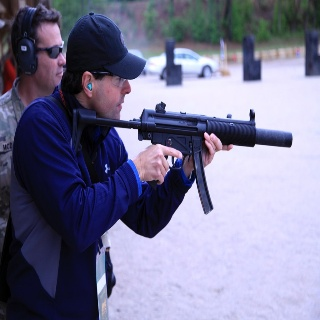rifle: (69, 100, 293, 216)
